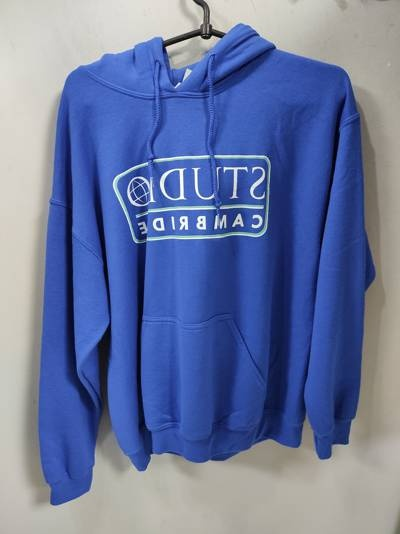Hoodie: (11, 15, 364, 497)
